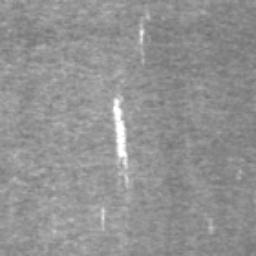White rust: (112, 94, 129, 187), (138, 9, 151, 67), (208, 218, 214, 235), (101, 207, 105, 229)
